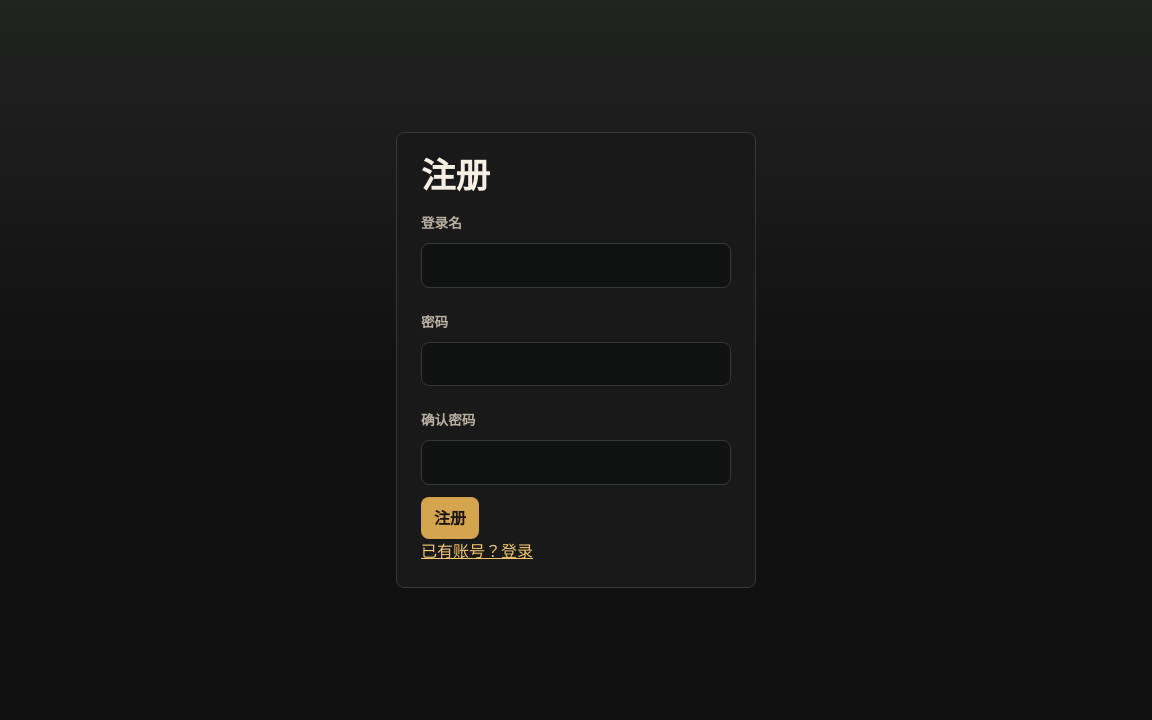
Test case: 认证页面 › 密码不一致时注册被拦截
Type "alice" into the field labelled "登录名".
click(576, 265); type("alice")  # box [421, 243, 731, 288]
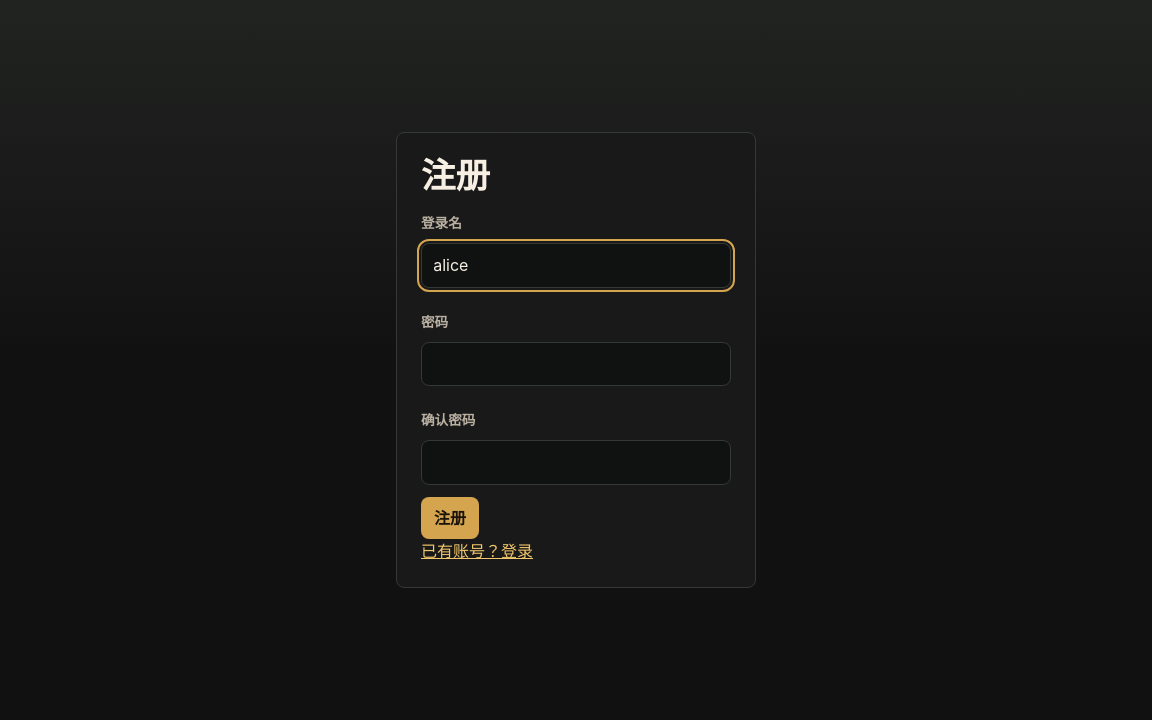
Type "secret123" into the password field labelled "密码".
click(576, 364); type("secret123")  # box [421, 342, 731, 386]
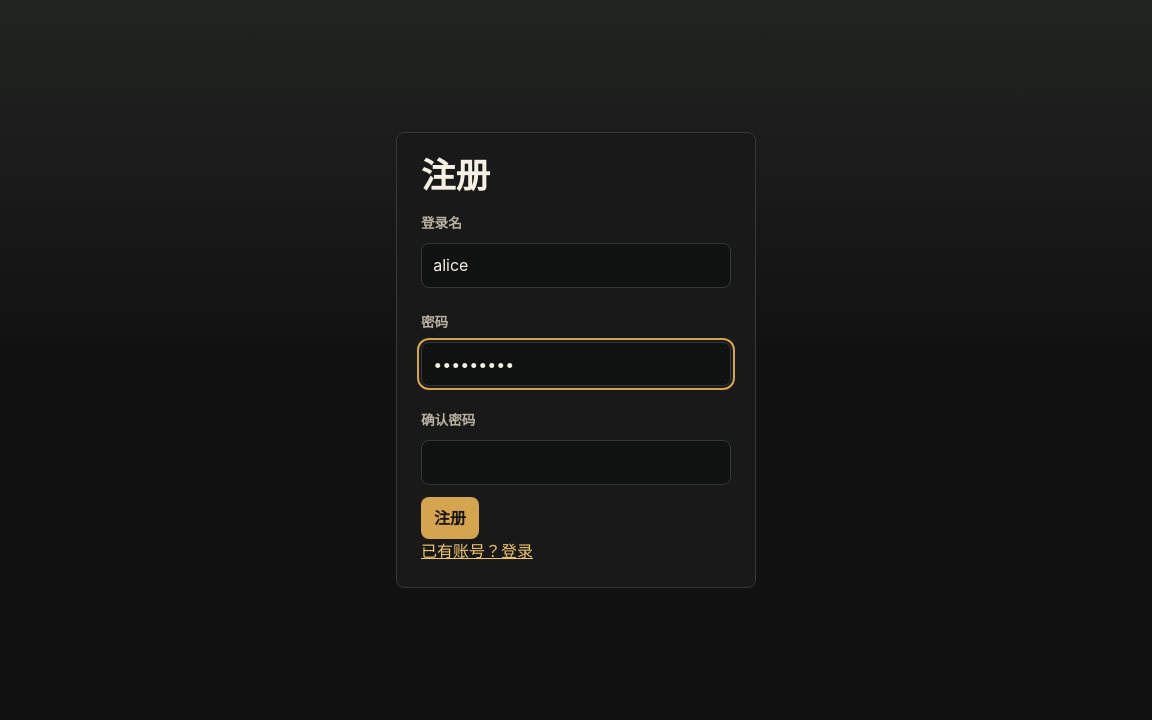
Type "different" into the password field labelled "确认密码".
click(576, 462); type("different")  # box [421, 440, 731, 484]
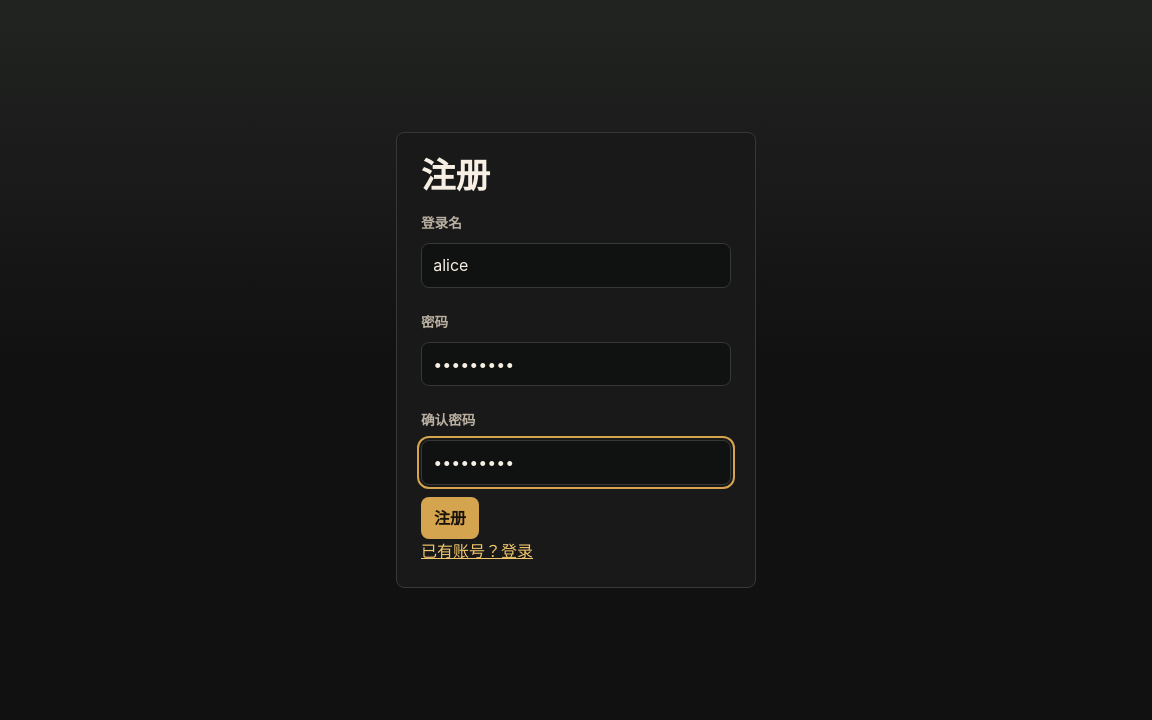
Click the button "注册".
click(450, 518)  # box [421, 497, 479, 539]
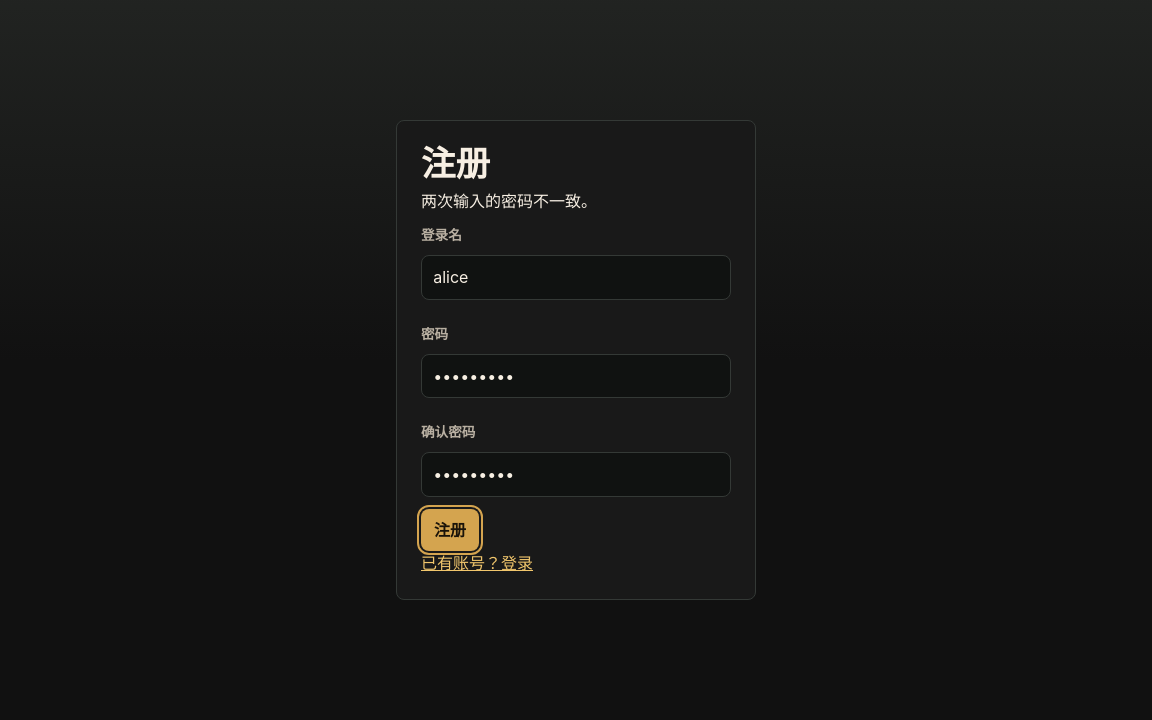
Result: the message shows "两次输入的密码不一致" at [421, 191, 597, 211]
